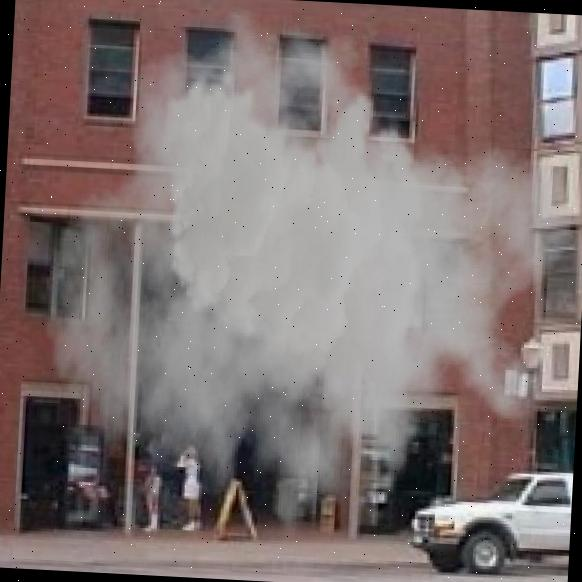smoke: (32, 0, 582, 578)
